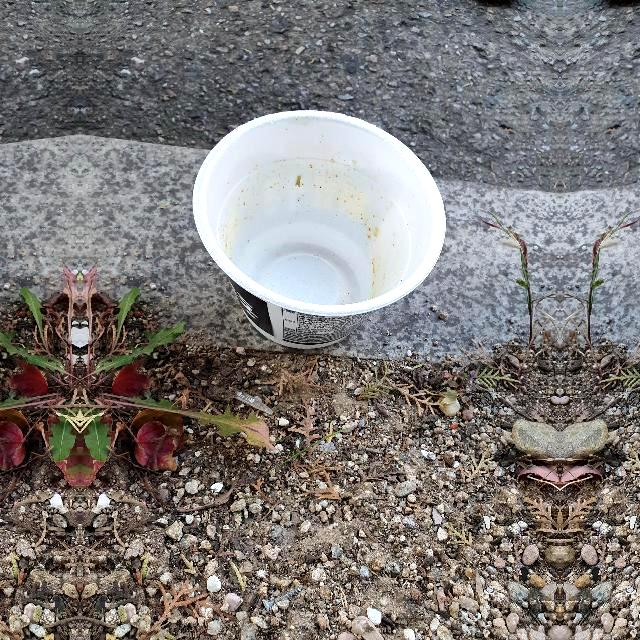Styrofoam: (192, 110, 446, 350), (192, 110, 446, 349)
